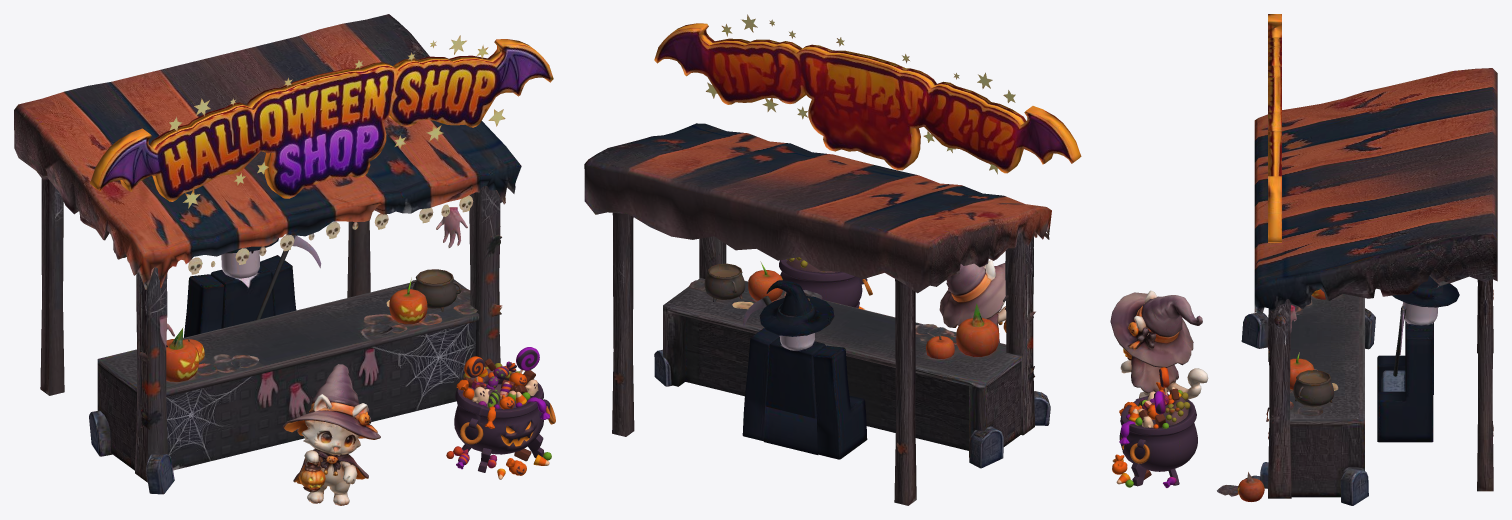
The model's file is halloween-shop-event.glb.
3 views of the same model, side by side, from view 1: azimuth 30°, elevation 25°; view 2: azimuth 150°, elevation 25°; view 3: azimuth 270°, elevation 25° (orthographic). The views are drawn at different scales.
Parts seen in each view (by area): view 1: HalloweenShop, CandyCauldron, LargeHalloweenCat; view 2: HalloweenShop, LargeHalloweenCat, CandyCauldron; view 3: HalloweenShop, LargeHalloweenCat, CandyCauldron.
Boxes of the visible parts, x1=… form: HalloweenShop: x1=14, y1=14, x2=553, y2=494; CandyCauldron: x1=446, y1=347, x2=555, y2=479; LargeHalloweenCat: x1=283, y1=364, x2=380, y2=505; HalloweenShop: x1=584, y1=14, x2=1081, y2=505; LargeHalloweenCat: x1=939, y1=260, x2=1006, y2=342; CandyCauldron: x1=779, y1=257, x2=872, y2=309; HalloweenShop: x1=1217, y1=14, x2=1497, y2=505; LargeHalloweenCat: x1=1110, y1=290, x2=1208, y2=399; CandyCauldron: x1=1112, y1=367, x2=1197, y2=487.
Size of the model in its own units: 4.57 by 3.6 by 3.64.
Materials: 3 (3 with a texture image).
